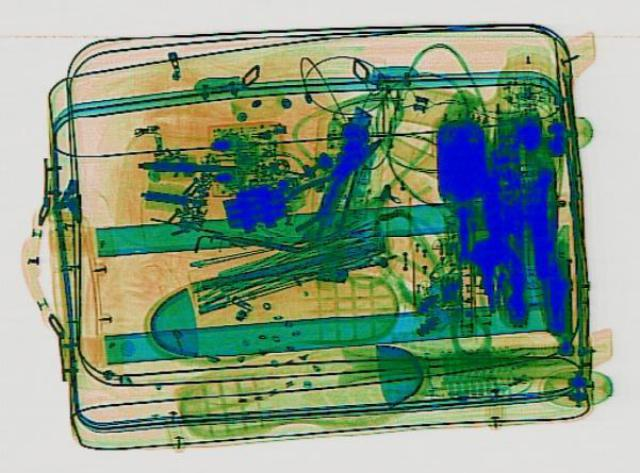Pliers: (260, 126, 398, 235)
